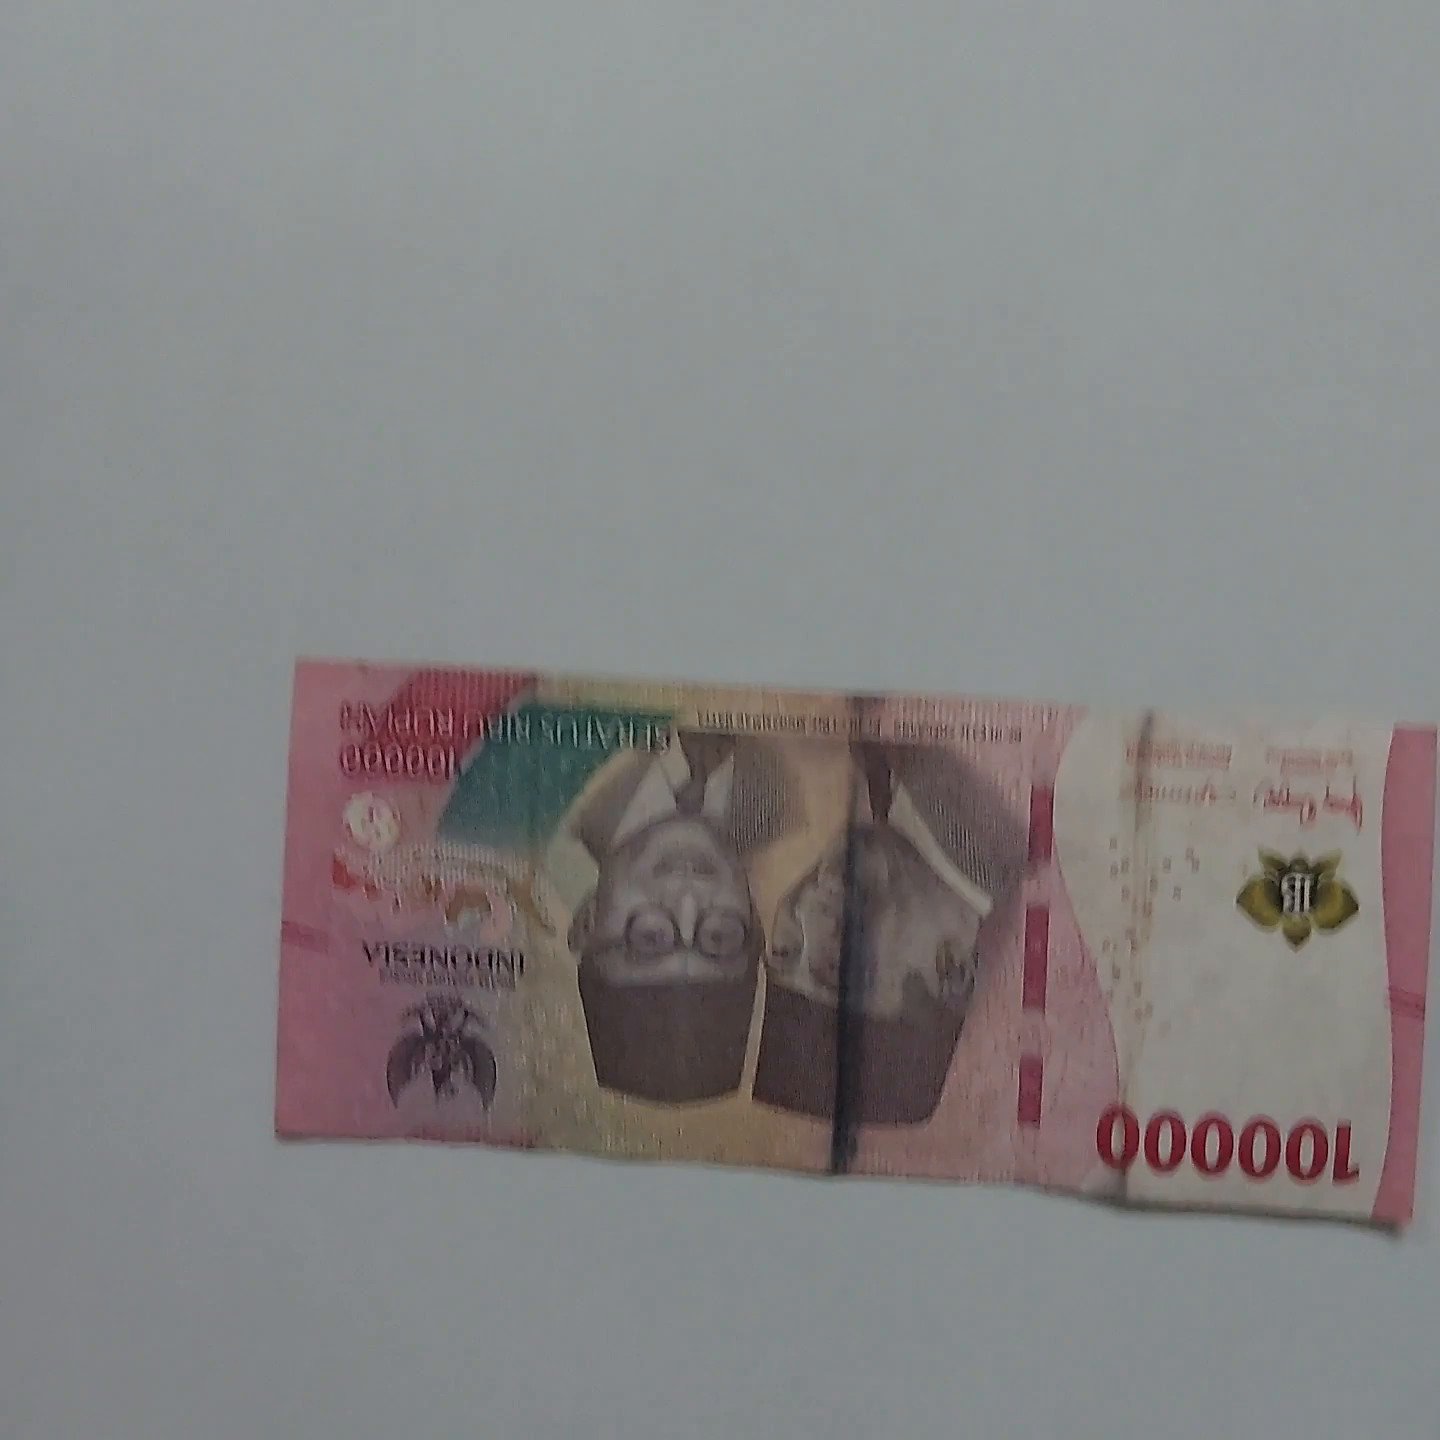100k: (269, 629, 1440, 1233)
